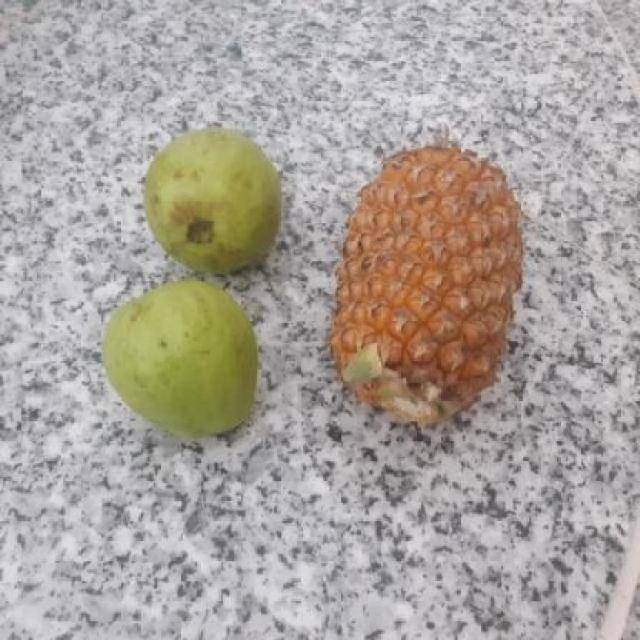guava: (95, 282, 258, 436), (140, 131, 282, 271)
pineapple: (328, 148, 520, 418)
